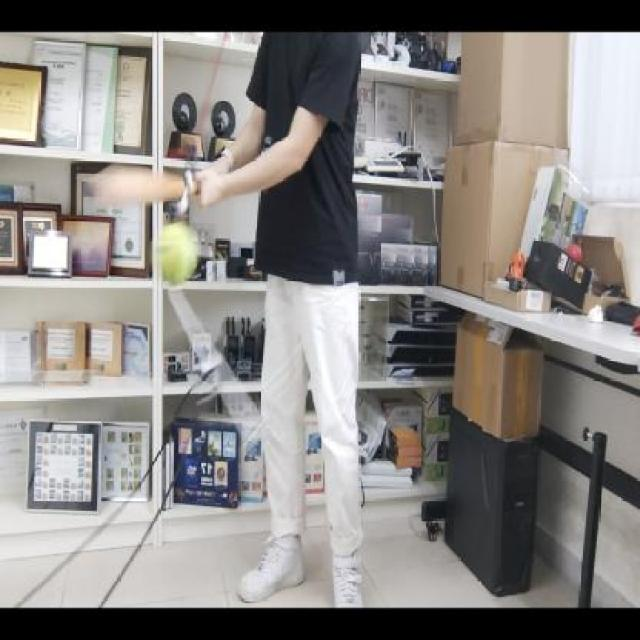baseball: (154, 223, 206, 294)
